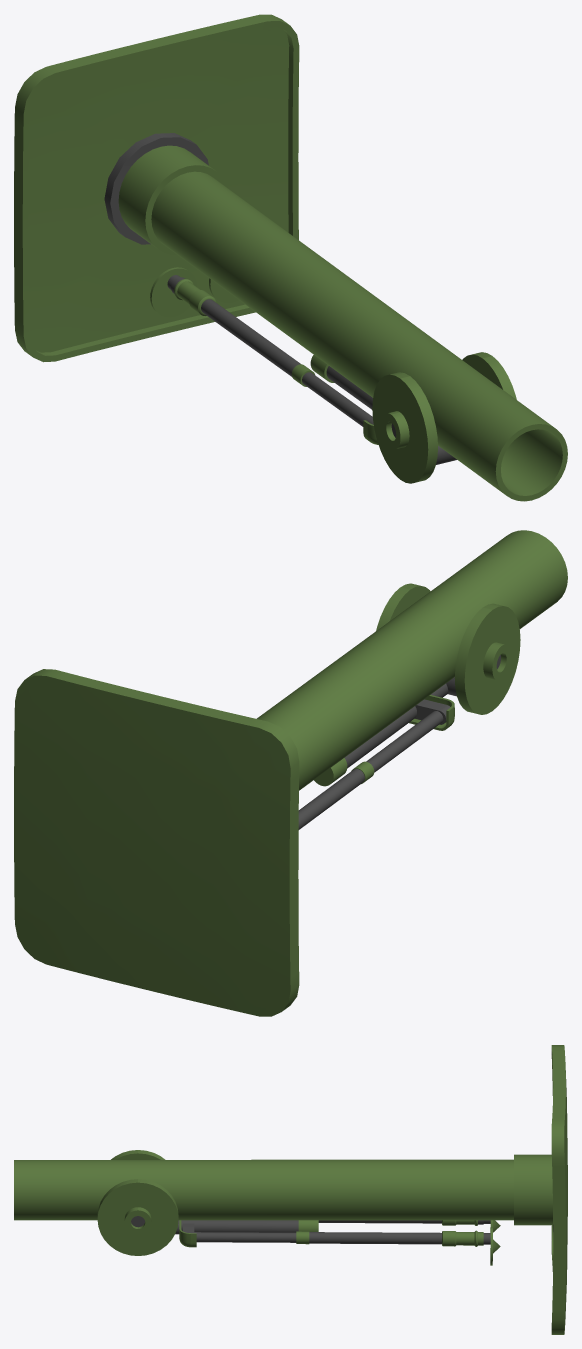
The model's file is Mortar.glb.
3 views of the same model, one above another, from view 1: azimuth 30°, elevation 25°; view 2: azimuth 150°, elevation 25°; view 3: azimuth 270°, elevation 25° (orthographic). The views are drawn at different scales.
Parts seen in each view (by area): view 1: Cylinder.003; view 2: Cylinder.003; view 3: Cylinder.003.
Part boxes in pixels (x1,y1,x2,y2): Cylinder.003: (14, 14, 567, 501); Cylinder.003: (14, 530, 567, 1016); Cylinder.003: (14, 1045, 567, 1334).
Bounding box in the file's own units: 1.54 × 1.54 × 3.68.
